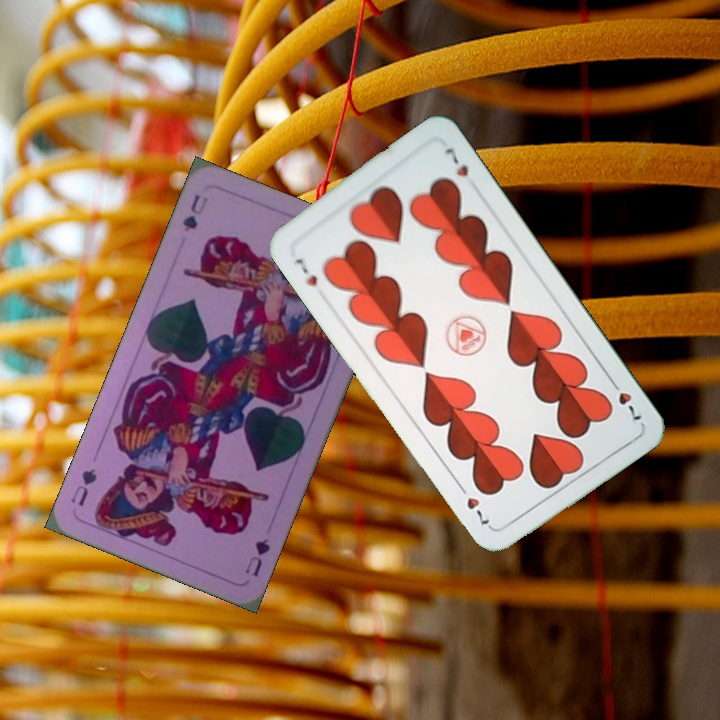GU: (178, 190, 211, 235), (241, 534, 273, 579)
H7: (605, 374, 645, 424), (291, 254, 320, 289)
